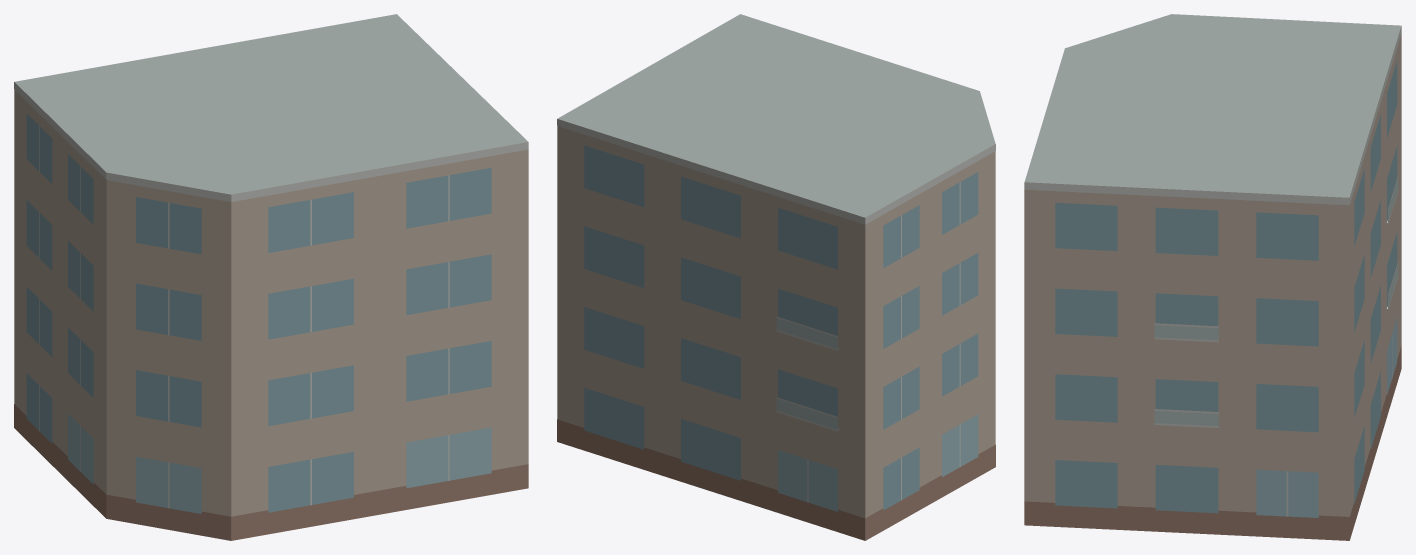
File: survey-upis-32998097.glb
3 renders of one model, left to right at view 1: azimuth 30°, elevation 25°; view 2: azimuth 150°, elevation 25°; view 3: azimuth 270°, elevation 25°, orthographic. The views are drawn at different scales.
Visible parts, largest first — view 1: survey-upis-32998097.tmp; view 2: survey-upis-32998097.tmp; view 3: survey-upis-32998097.tmp.
Boxes of the visible parts, x1,y1,x2,y2 form: survey-upis-32998097.tmp: (14,14,528,540); survey-upis-32998097.tmp: (557,14,995,540); survey-upis-32998097.tmp: (1024,14,1401,540).
Size of the model in its own units: 12.99 by 11.3 by 11.27.
